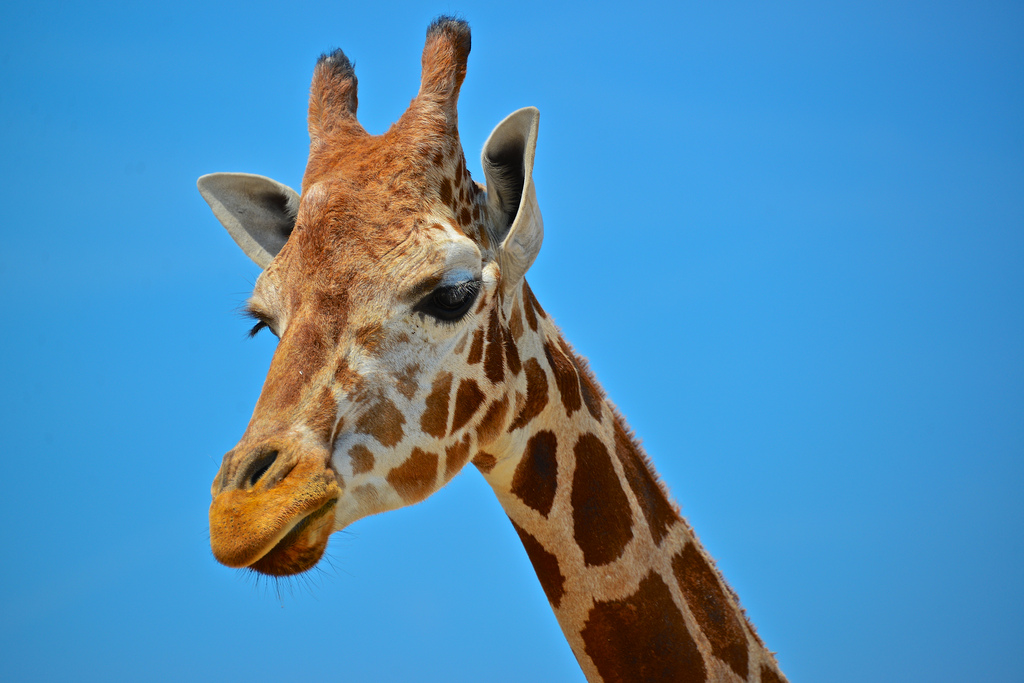giraffe: (158, 27, 753, 642)
